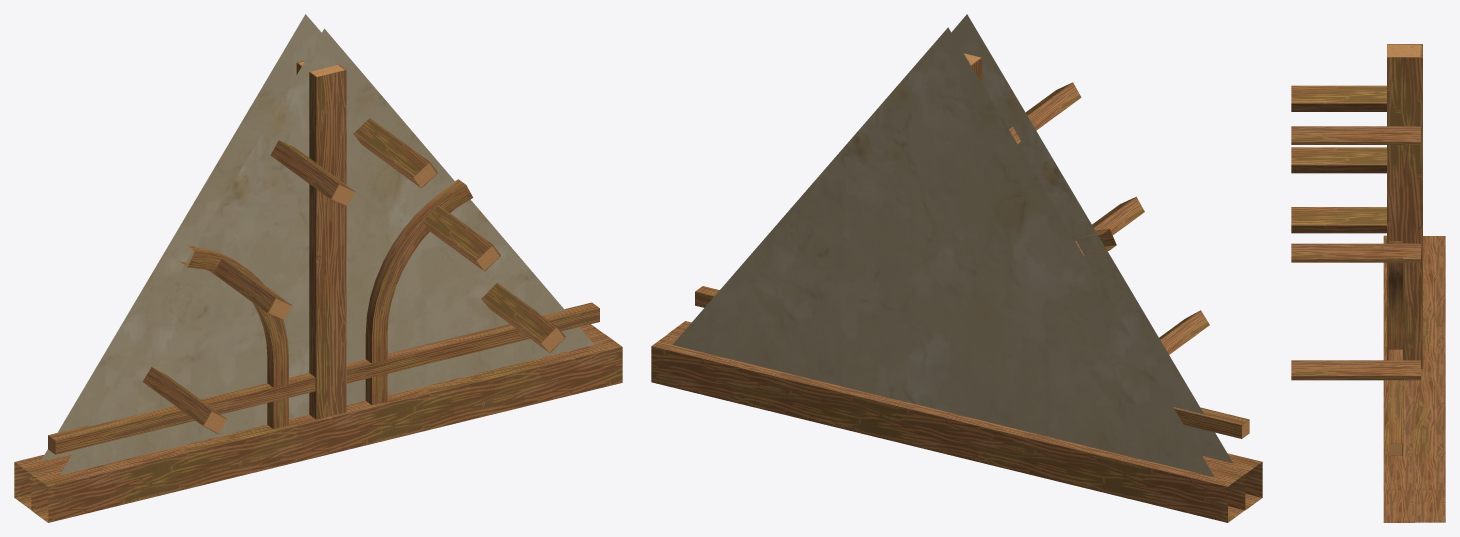
The model's file is Roof_Front_Brick4.glb.
3 renders of one model, left to right at view 1: azimuth 30°, elevation 25°; view 2: azimuth 150°, elevation 25°; view 3: azimuth 270°, elevation 25°, orthographic. The views are drawn at different scales.
Parts seen in each view (by area): view 1: Roof_Front_Brick4; view 2: Roof_Front_Brick4; view 3: Roof_Front_Brick4.
Boxes of the visible parts, x1,y1,x2,y2 form: Roof_Front_Brick4: [14, 14, 622, 522]; Roof_Front_Brick4: [651, 14, 1262, 522]; Roof_Front_Brick4: [1291, 44, 1445, 522].
Size of the model in its own units: 4.4 by 3.07 by 1.13.
Materials: 2 (2 with a texture image).
